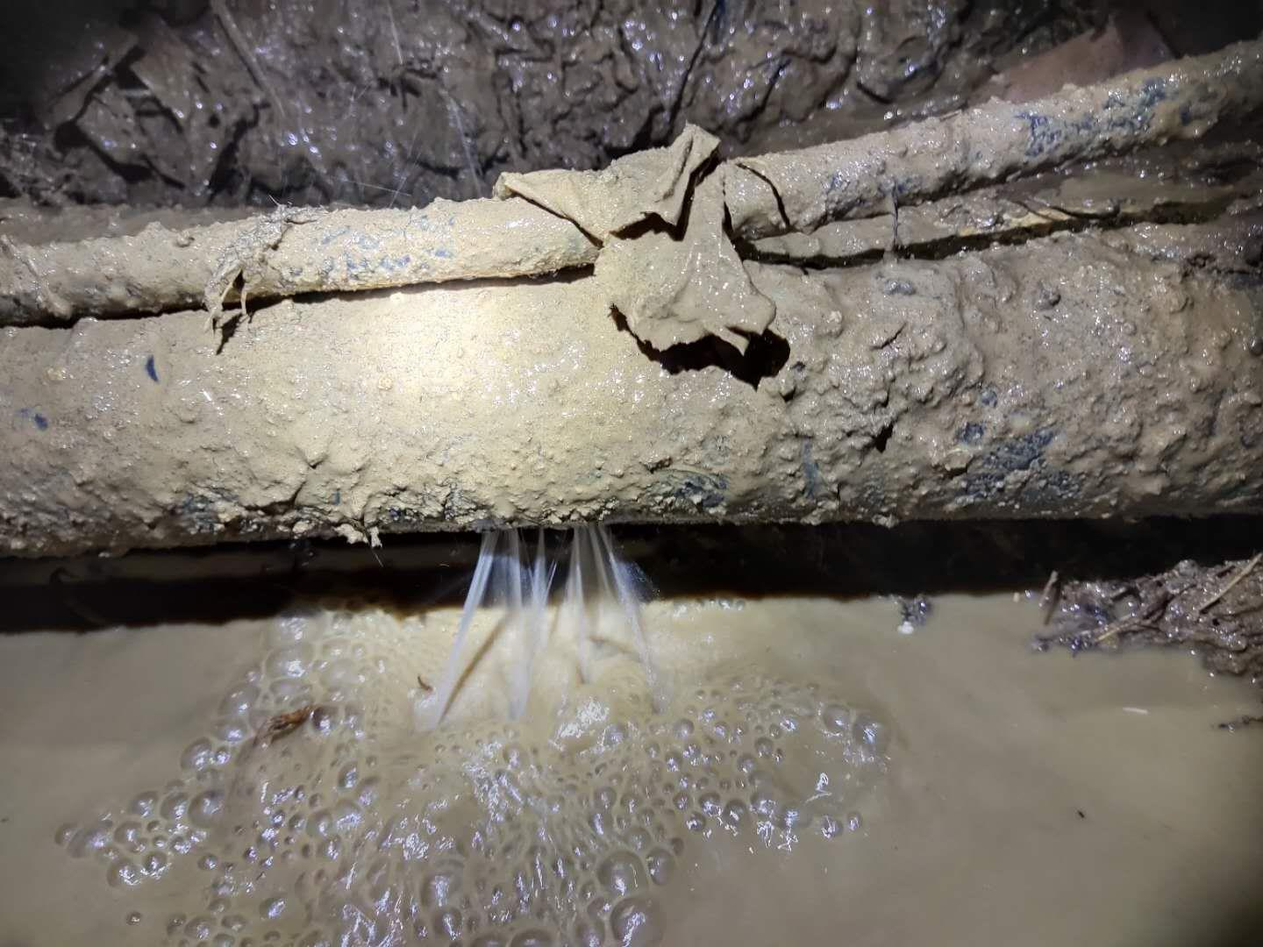pipe burst: (428, 508, 551, 724), (563, 506, 669, 686)
water accumulation: (4, 529, 1263, 947)
